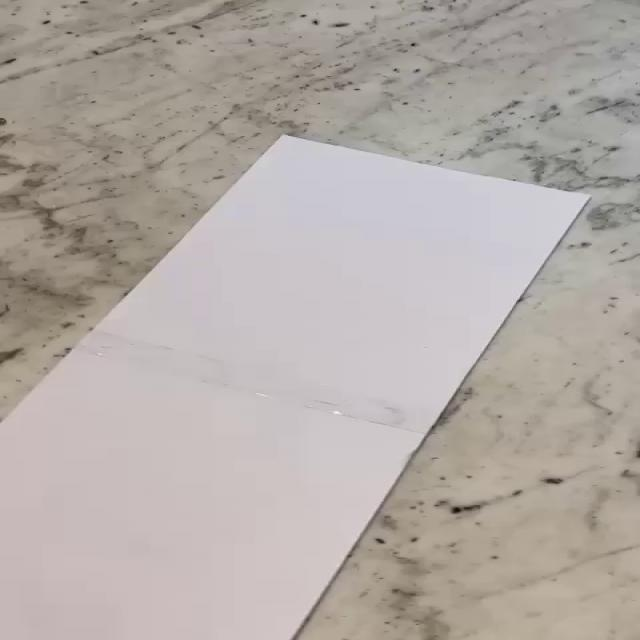road: (0, 135, 592, 640)
